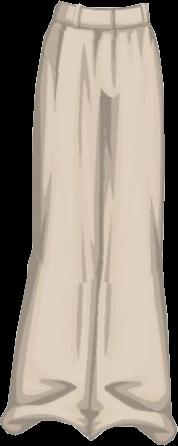Hemline: (0, 415, 89, 439), (89, 423, 177, 444)
Pantleg: (0, 1, 107, 438), (88, 3, 177, 445)
Waistline: (50, 15, 149, 32), (57, 0, 143, 11)
